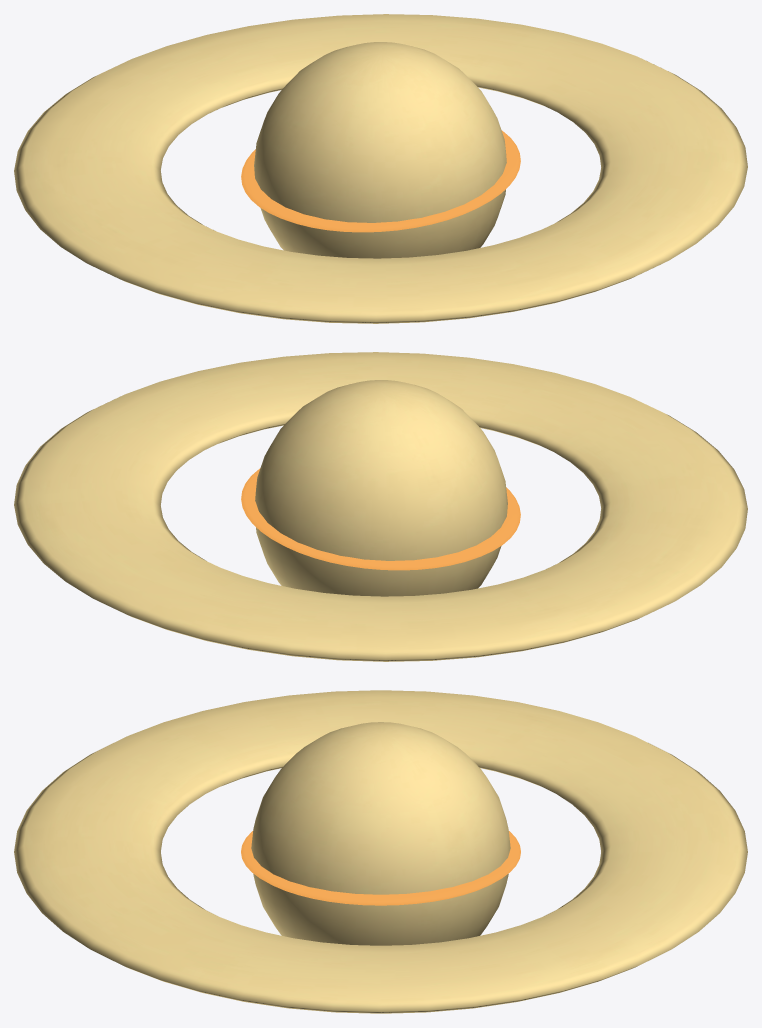
File: planet10.glb
3 views of the same model, one above another, from view 1: azimuth 30°, elevation 25°; view 2: azimuth 150°, elevation 25°; view 3: azimuth 270°, elevation 25° (orthographic). The views are drawn at different scales.
Parts seen in each view (by area): view 1: Torus.001, Sphere, Torus.002; view 2: Torus.001, Sphere, Torus.002; view 3: Torus.001, Sphere, Torus.002.
Boxes of the visible parts, x1,y1,x2,y2 form: Torus.001: (14,14,747,323); Sphere: (254,42,506,258); Torus.002: (241,130,520,232); Torus.001: (14,352,747,661); Sphere: (255,380,507,596); Torus.002: (241,468,520,570); Torus.001: (14,690,747,1013); Sphere: (251,722,510,945); Torus.002: (241,831,520,905).
Size of the model in its own units: 5.81 by 2 by 5.64.
Materials: 2 (1 with a texture image).
